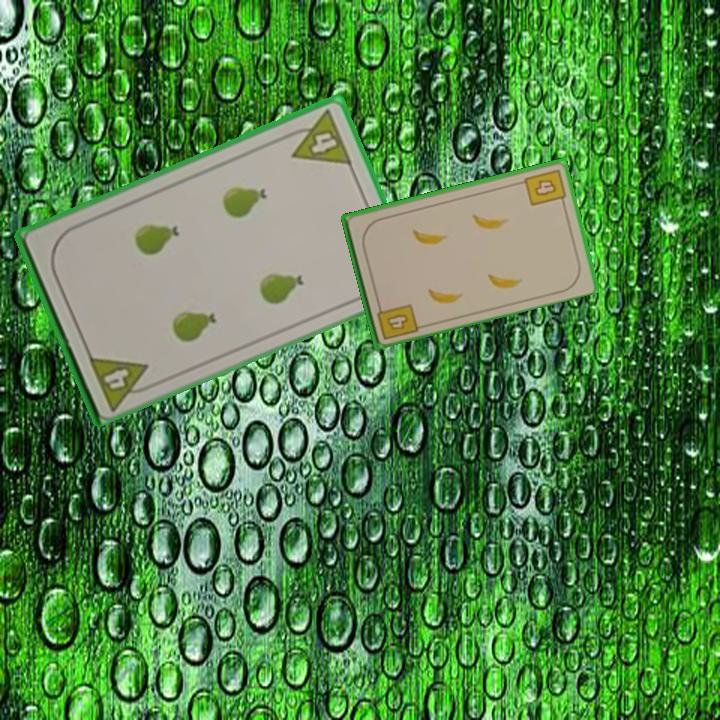4b: (521, 165, 569, 209), (373, 298, 420, 342)
4p: (84, 350, 158, 413), (280, 106, 355, 168)
